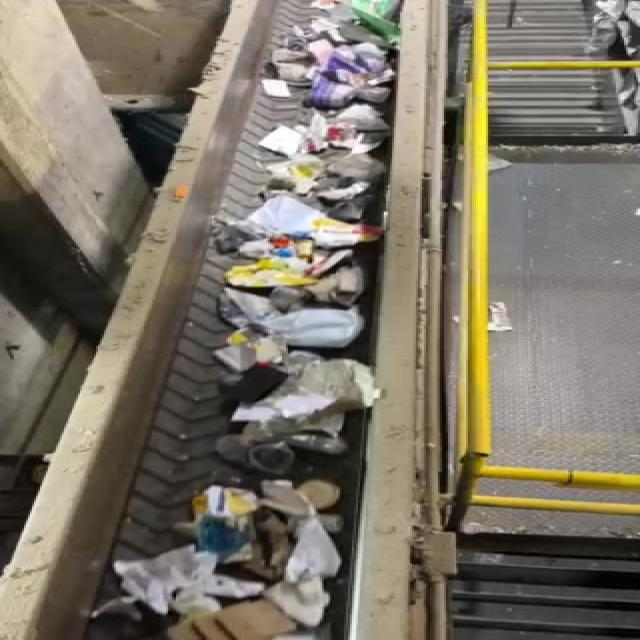paper: (190, 486, 361, 576), (97, 548, 247, 614)
pp: (212, 428, 362, 472)
